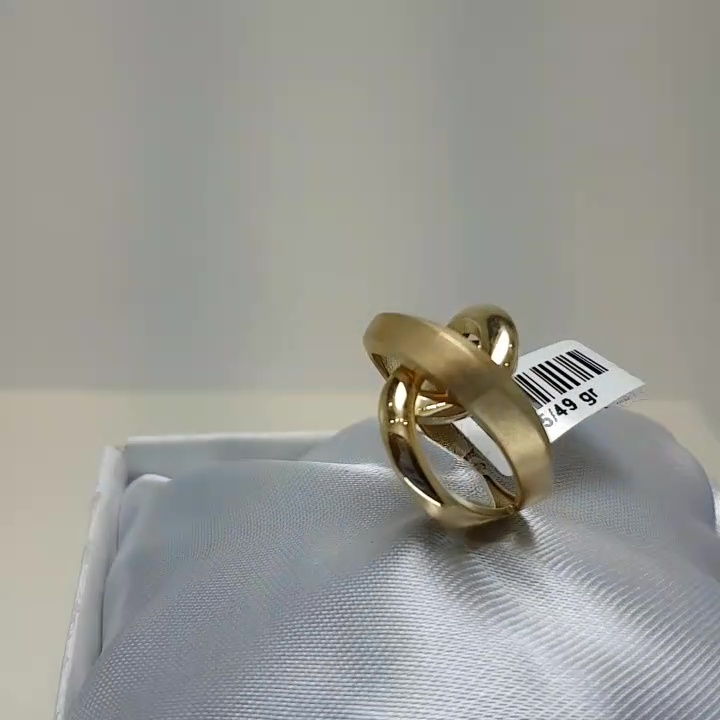Ring 3: (338, 267, 567, 557)
